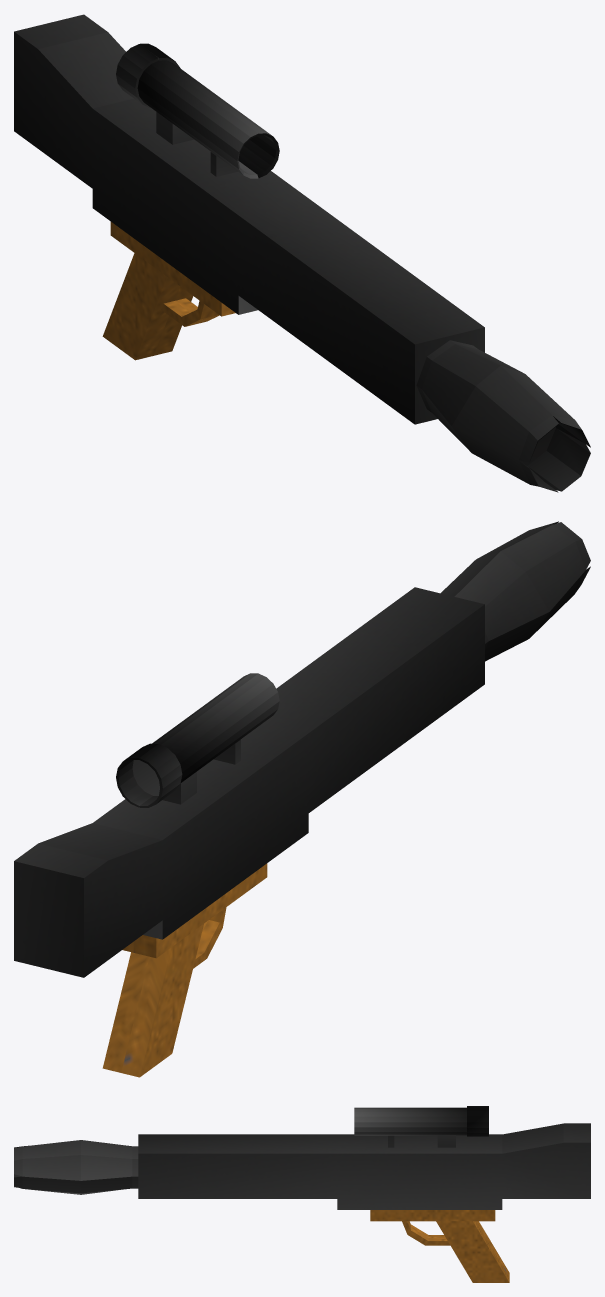
File: FirstGun.fbx
3 renders of one model, top to bottom at view 1: azimuth 30°, elevation 25°; view 2: azimuth 150°, elevation 25°; view 3: azimuth 270°, elevation 25°, orthographic. The views are drawn at different scales.
Parts seen in each view (by area): view 1: Gun.002; view 2: Gun.002; view 3: Gun.002.
Boxes of the visible parts, x1=… form: Gun.002: x1=14, y1=14, x2=590, y2=492; Gun.002: x1=14, y1=521, x2=590, y2=1077; Gun.002: x1=14, y1=1106, x2=590, y2=1282.
Size of the model in its own units: 20.11 by 59.06 by 181.
